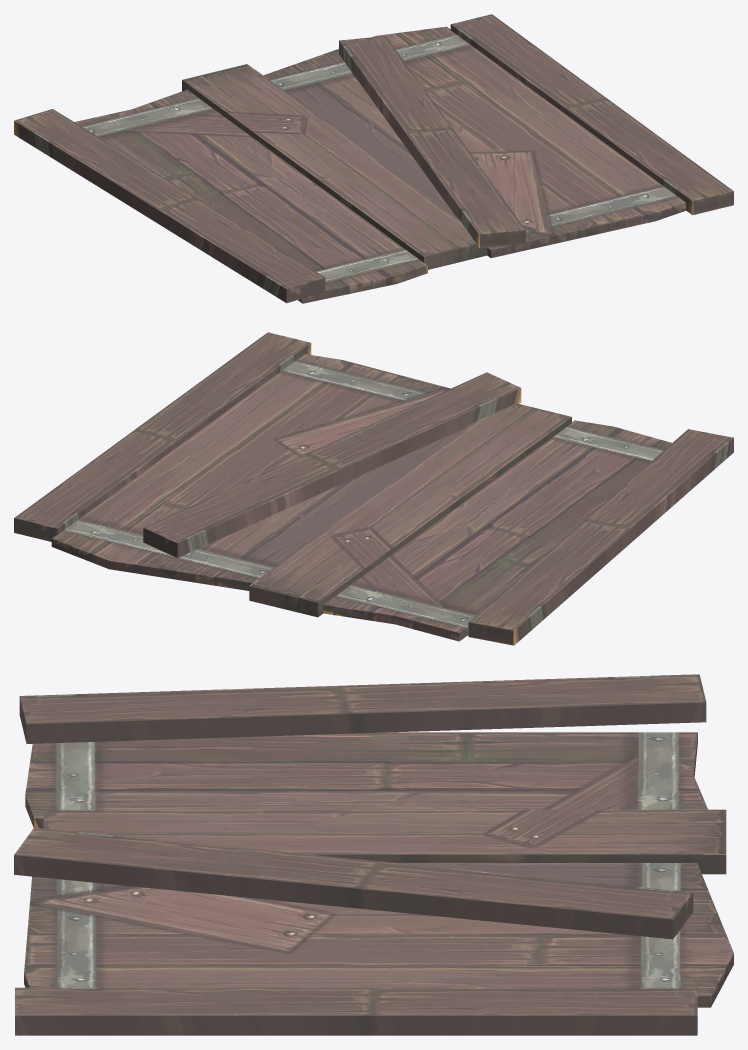
File: oMscWoodplate01a.FBX
The picture shows the model from 3 angles, top to bottom: view 1: azimuth 30°, elevation 25°; view 2: azimuth 150°, elevation 25°; view 3: azimuth 270°, elevation 25°; orthographic projection. The views are drawn at different scales.
Visible parts, largest first — view 1: oMscWoodplate01a; view 2: oMscWoodplate01a; view 3: oMscWoodplate01a.
Part boxes in pixels (x1,y1,x2,y2): oMscWoodplate01a: (14, 14, 733, 303); oMscWoodplate01a: (14, 332, 733, 645); oMscWoodplate01a: (14, 674, 733, 1035).
Size of the model in its own units: 44.84 by 2.37 by 41.54.
1 material, 1 textured.
